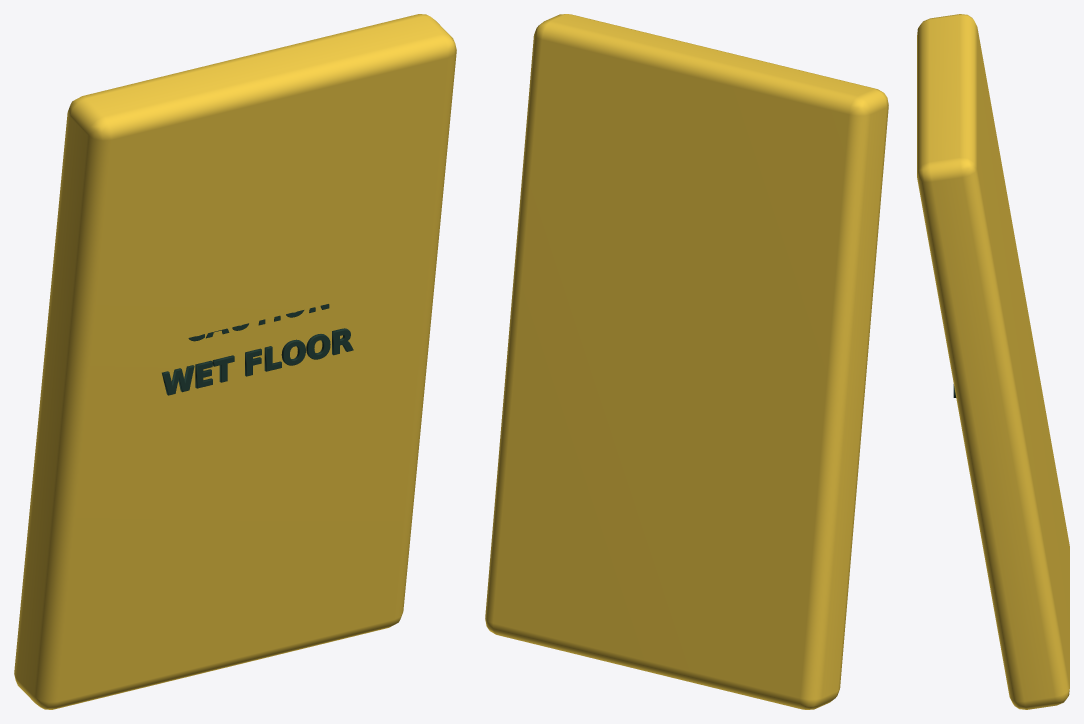
The model's file is SM_EG_WetFloorSign_4073a8a288.fbx.
The picture shows the model from 3 angles, left to right: view 1: azimuth 30°, elevation 25°; view 2: azimuth 150°, elevation 25°; view 3: azimuth 270°, elevation 25°; orthographic projection. The views are drawn at different scales.
Visible parts, largest first — view 1: SM_EG_WetFloorSign_4073a8a288; view 2: SM_EG_WetFloorSign_4073a8a288; view 3: SM_EG_WetFloorSign_4073a8a288.
Part boxes in pixels (box(x1,y1,x2,y2)): SM_EG_WetFloorSign_4073a8a288: box(14, 14, 456, 709); SM_EG_WetFloorSign_4073a8a288: box(485, 14, 888, 709); SM_EG_WetFloorSign_4073a8a288: box(917, 14, 1069, 709).
Size of what is drawn, in the model's own units: 48 by 20.01 by 79.62.
